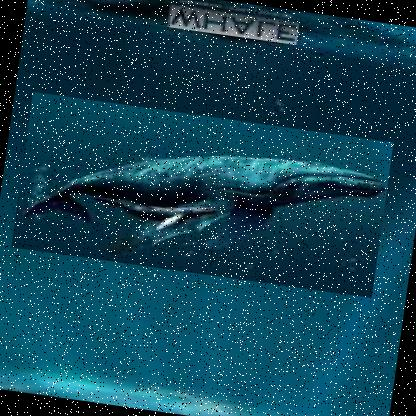blue_whale: (11, 90, 394, 298)
